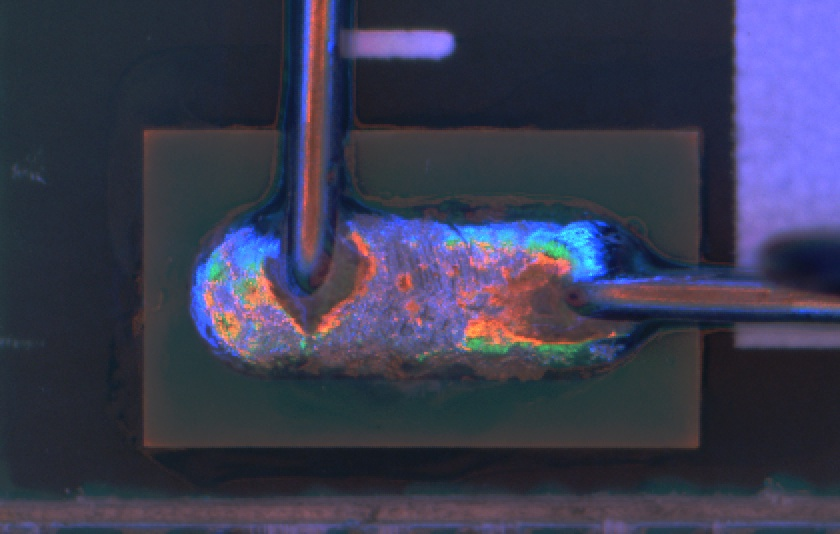spring: (553, 267, 840, 329), (286, 1, 344, 295)
spring_pin: (192, 208, 659, 375)
